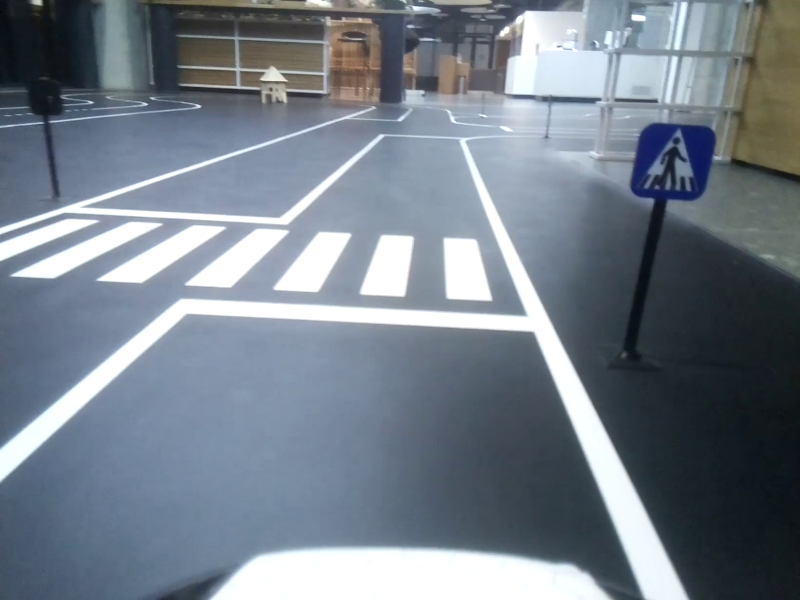pedestrian: (633, 127, 713, 199)
